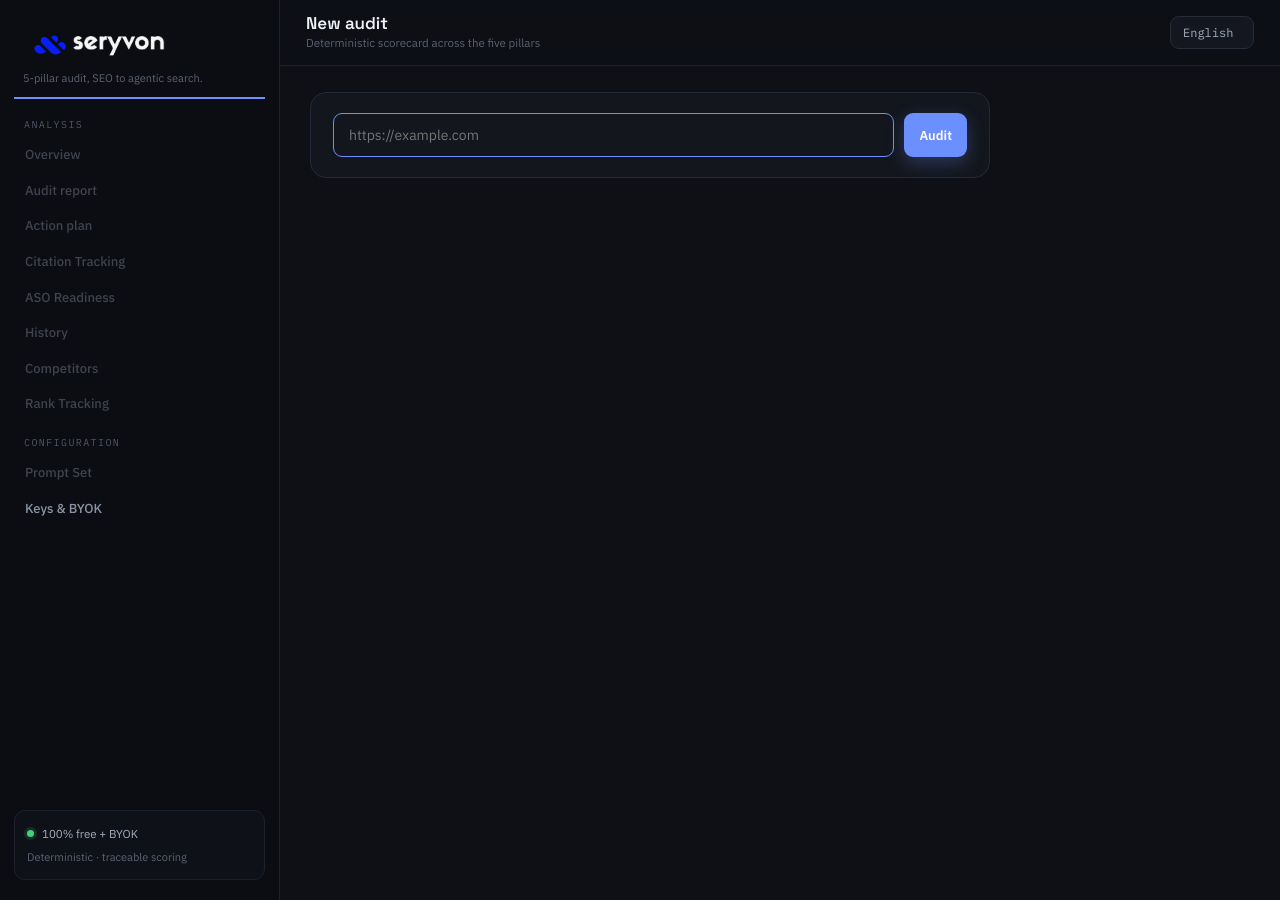
Test case: formats an API creation error with its status
Type "example.com" into the field named "URL" at (614, 135), box [333,113,894,157]
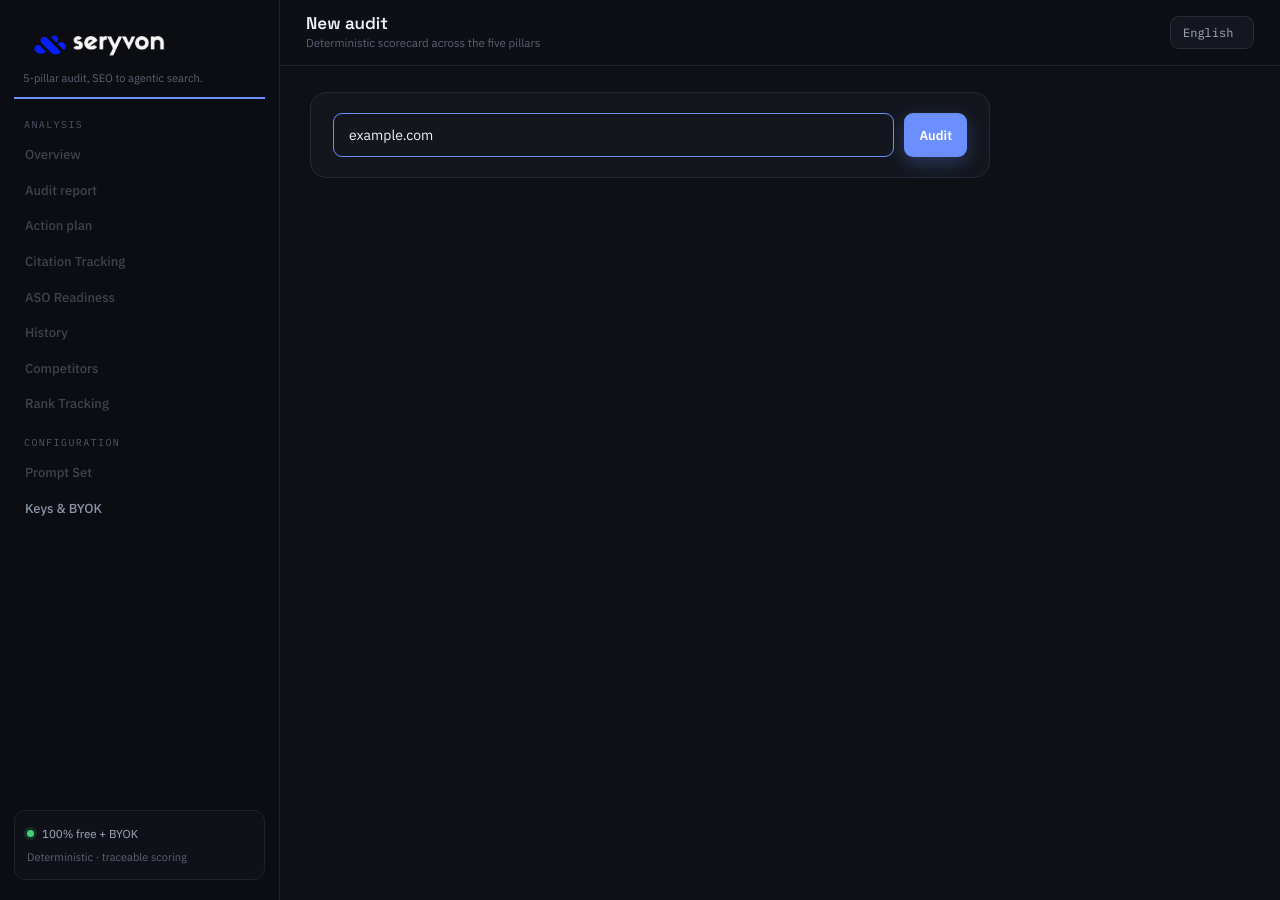
Click the button with class "home-audit-btn" at (936, 135), box [904,113,967,157]
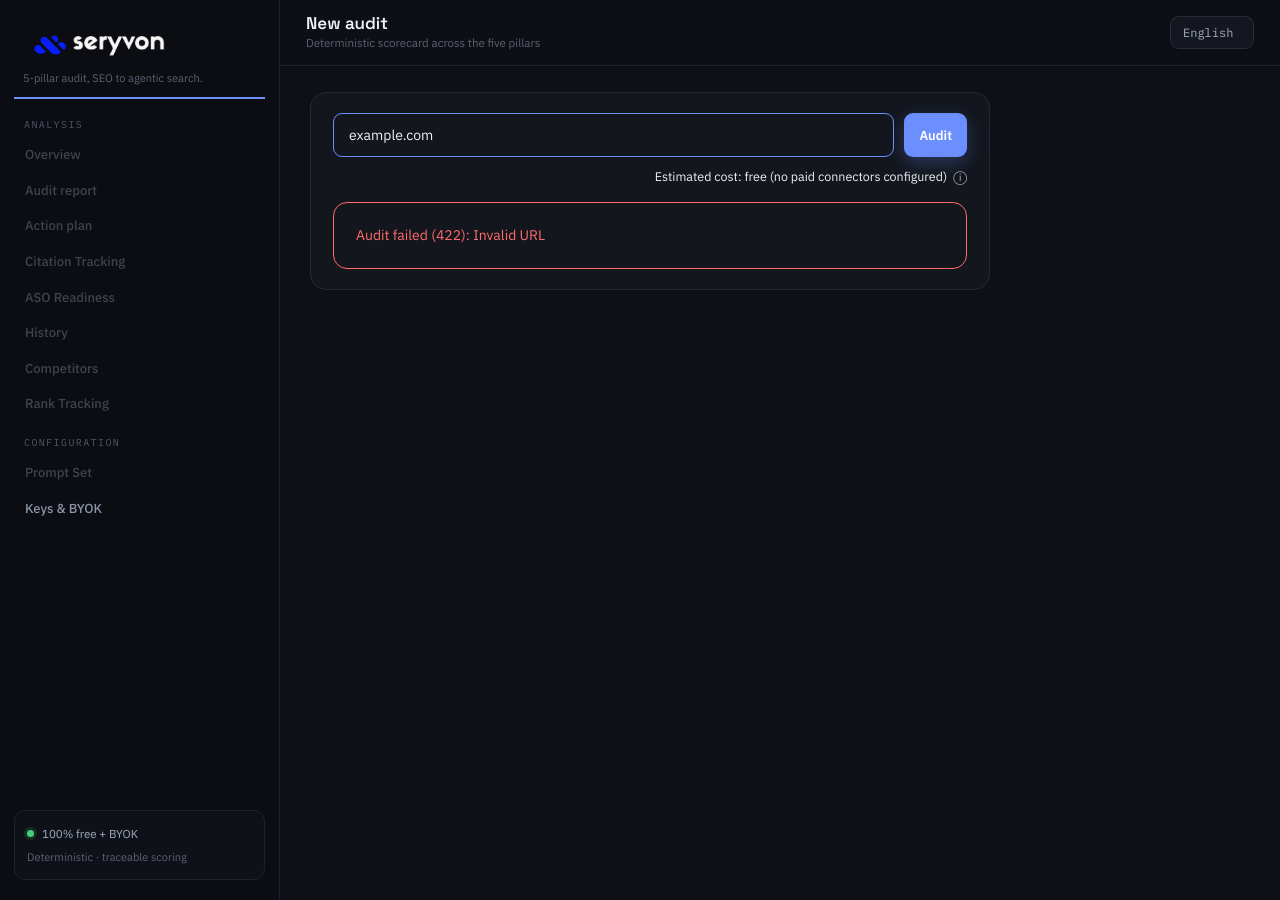
expect the text "Audit failed (422): Invalid URL" is shown: met, box [333,202,967,269]
